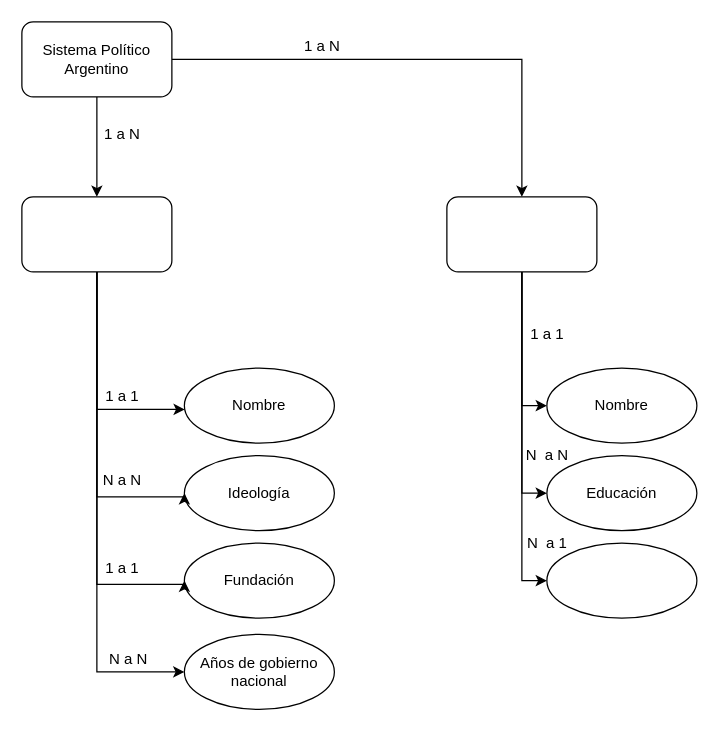
Some shapes in this 719 by 731 pixel diagram are drawn without their labels. The shapes that lost their labels are listed below. From the top down, each one's box as (x1, y1, x2, y2) in pixels, then its label:
(21, 196, 172, 272): Partidos Politicos
(446, 196, 597, 272): Referentes
(546, 542, 697, 618): Clase social
